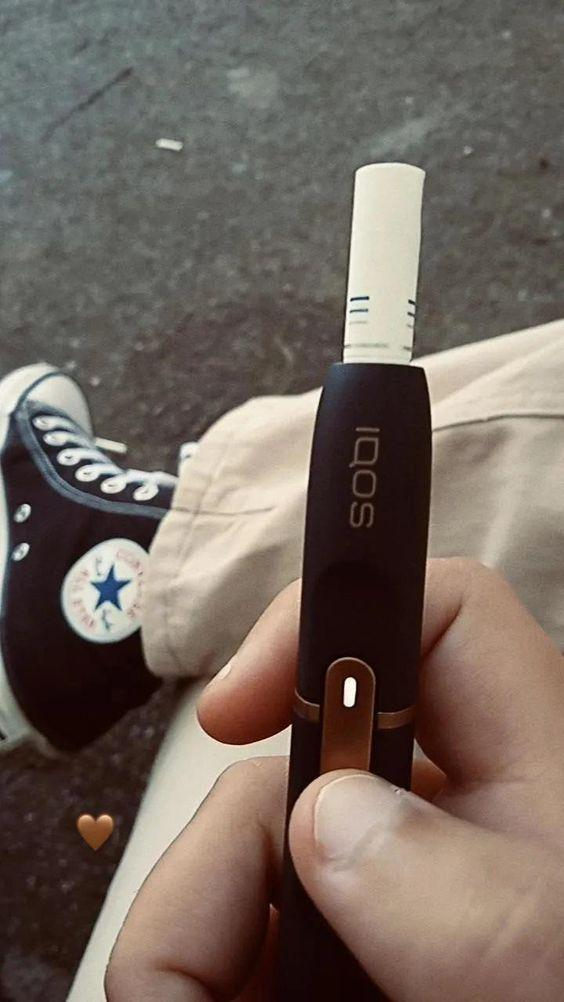iqos: (281, 164, 431, 1001)
